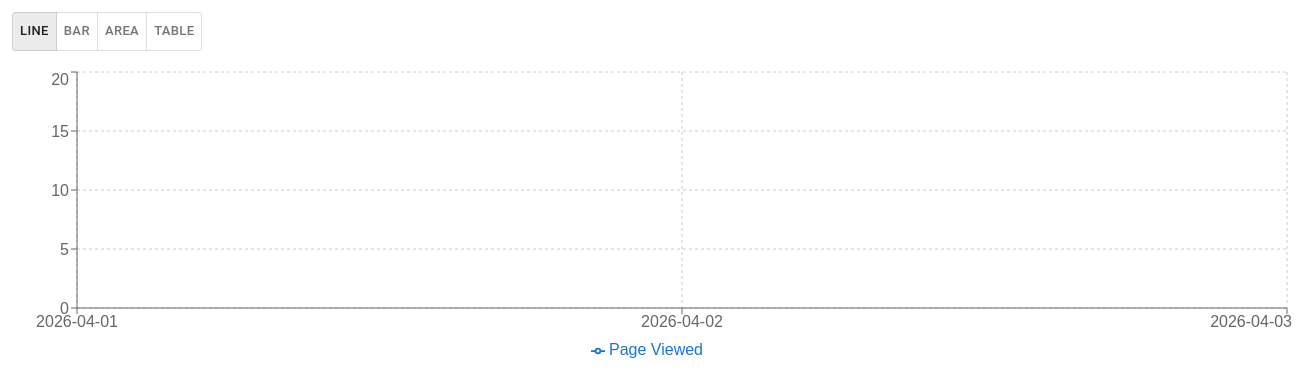
Test: TrendChart › table mode › renders a table when Table chart type is selected
Click the button "Table".
click(174, 31)  # box [146,12,202,51]
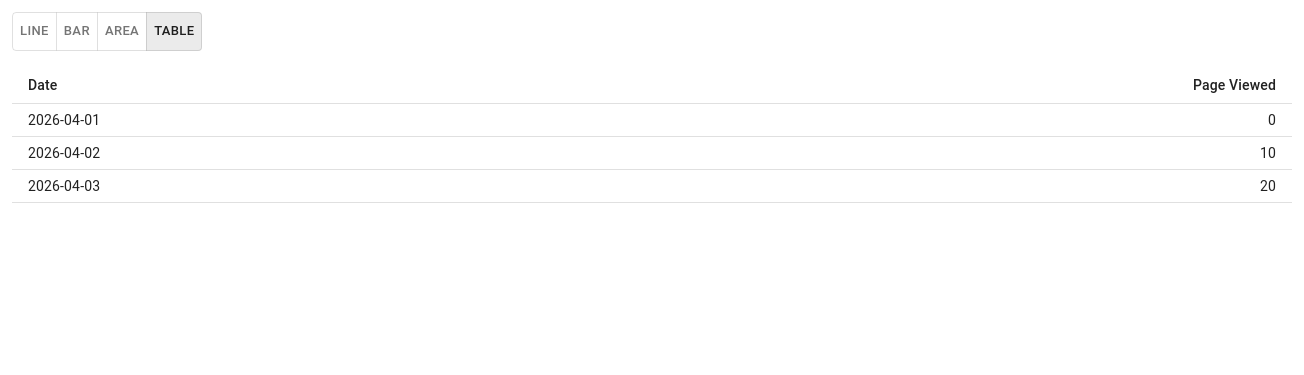
Expected: the table is shown, [12,67,1292,203]
